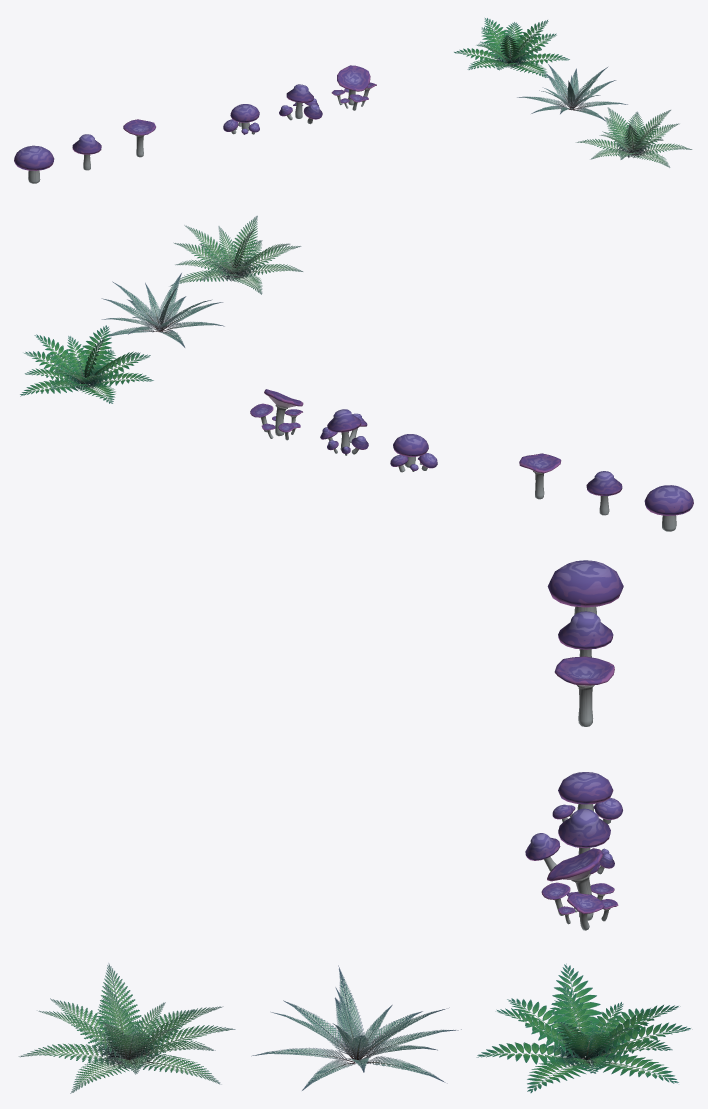
The model's file is Foliage.fbx.
The picture shows the model from 3 angles, top to bottom: view 1: azimuth 30°, elevation 25°; view 2: azimuth 150°, elevation 25°; view 3: azimuth 270°, elevation 25°; orthographic projection. The views are drawn at different scales.
Parts seen in each view (by area): view 1: Fern_03, Fern_01, Fern_02, Mushroom_06_Base, Mushroom_01_Base, Mushroom_05_Base, Mushroom_04_Base, Mushroom_03_Base, Mushroom_02_Base; view 2: Fern_03, Fern_01, Fern_02, Mushroom_01_Base, Mushroom_06_Base, Mushroom_05_Base, Mushroom_04_Base, Mushroom_03_Base, Mushroom_02_Base; view 3: Fern_03, Fern_01, Fern_02, Mushroom_06_Base, Mushroom_01_Base, Mushroom_05_Base, Mushroom_04_Base, Mushroom_03_Base, Mushroom_02_Base.
Boxes of the visible parts, x1,y1,x2,y2 form: Fern_03: (454,17,569,77); Fern_01: (575,107,692,167); Fern_02: (517,64,627,121); Mushroom_06_Base: (331,65,376,110); Mushroom_01_Base: (14,145,54,183); Mushroom_05_Base: (279,84,322,124); Mushroom_04_Base: (223,104,259,134); Mushroom_03_Base: (123,119,155,157); Mushroom_02_Base: (72,134,101,170); Fern_03: (20,325,153,403); Fern_01: (169,215,303,294); Fern_02: (100,273,224,347); Mushroom_01_Base: (644,485,693,531); Mushroom_06_Base: (250,389,303,440); Mushroom_05_Base: (320,409,368,455); Mushroom_04_Base: (390,434,437,472); Mushroom_03_Base: (519,453,561,499); Mushroom_02_Base: (586,471,622,515); Fern_03: (476,963,692,1093); Fern_01: (18,963,235,1093); Fern_02: (251,965,461,1090); Mushroom_06_Base: (541,848,618,930); Mushroom_01_Base: (547,560,623,614); Mushroom_05_Base: (525,808,614,874); Mushroom_04_Base: (552,772,622,823); Mushroom_03_Base: (554,656,614,726); Mushroom_02_Base: (558,611,613,657).
Size of the model in its own units: 1028 by 72.48 by 594.
